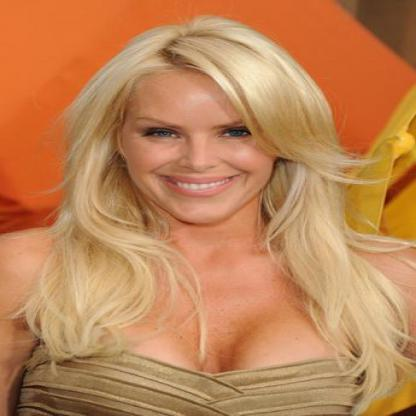long-hair: (36, 226, 373, 280)
